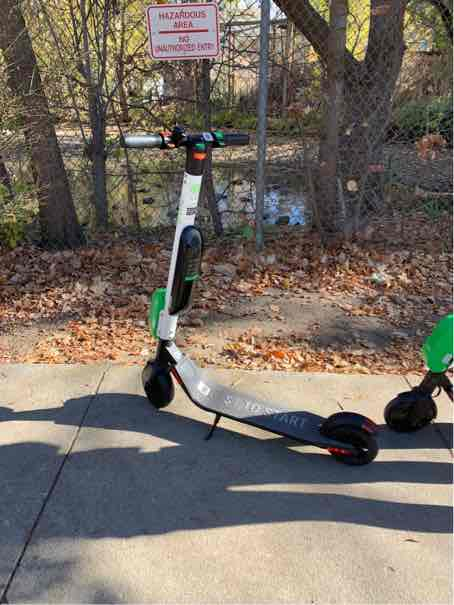scooter: (119, 121, 388, 471)
